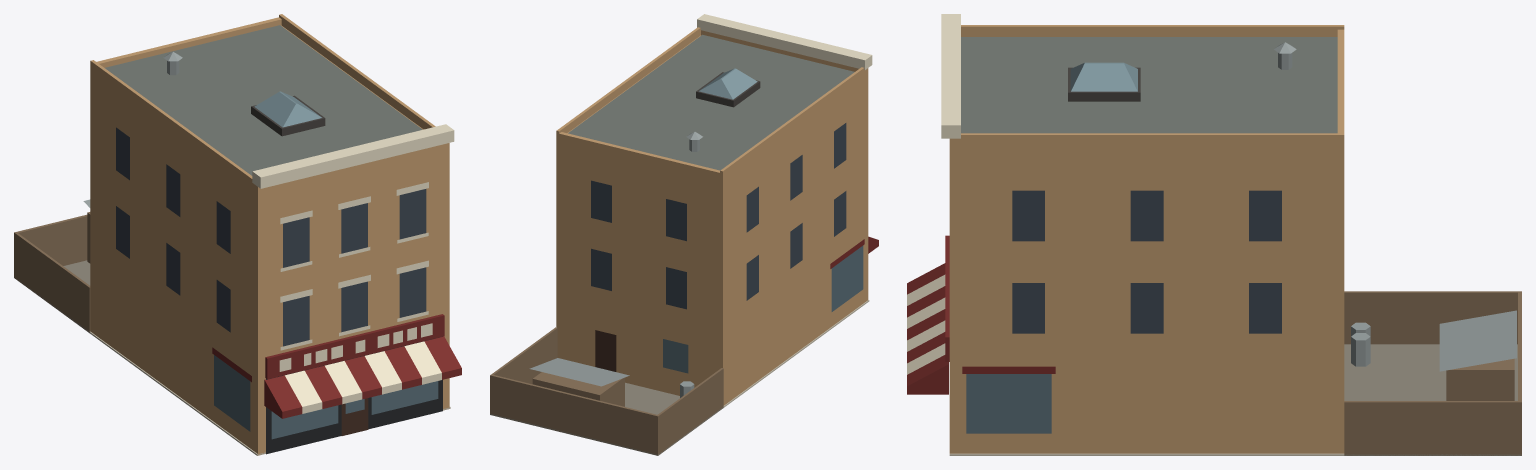
The model's file is shop_wb.glb.
The picture shows the model from 3 angles, left to right: view 1: azimuth 30°, elevation 25°; view 2: azimuth 150°, elevation 25°; view 3: azimuth 270°, elevation 25°; orthographic projection. The views are drawn at different scales.
Visible parts, largest first — view 1: shop_wb; view 2: shop_wb; view 3: shop_wb.
Part boxes in pixels (x1=…): shop_wb: x1=14, y1=14, x2=461, y2=455; shop_wb: x1=490, y1=14, x2=878, y2=455; shop_wb: x1=907, y1=14, x2=1521, y2=455.
Bounding box in the file's own units: 18 × 25.46 × 42.08.
